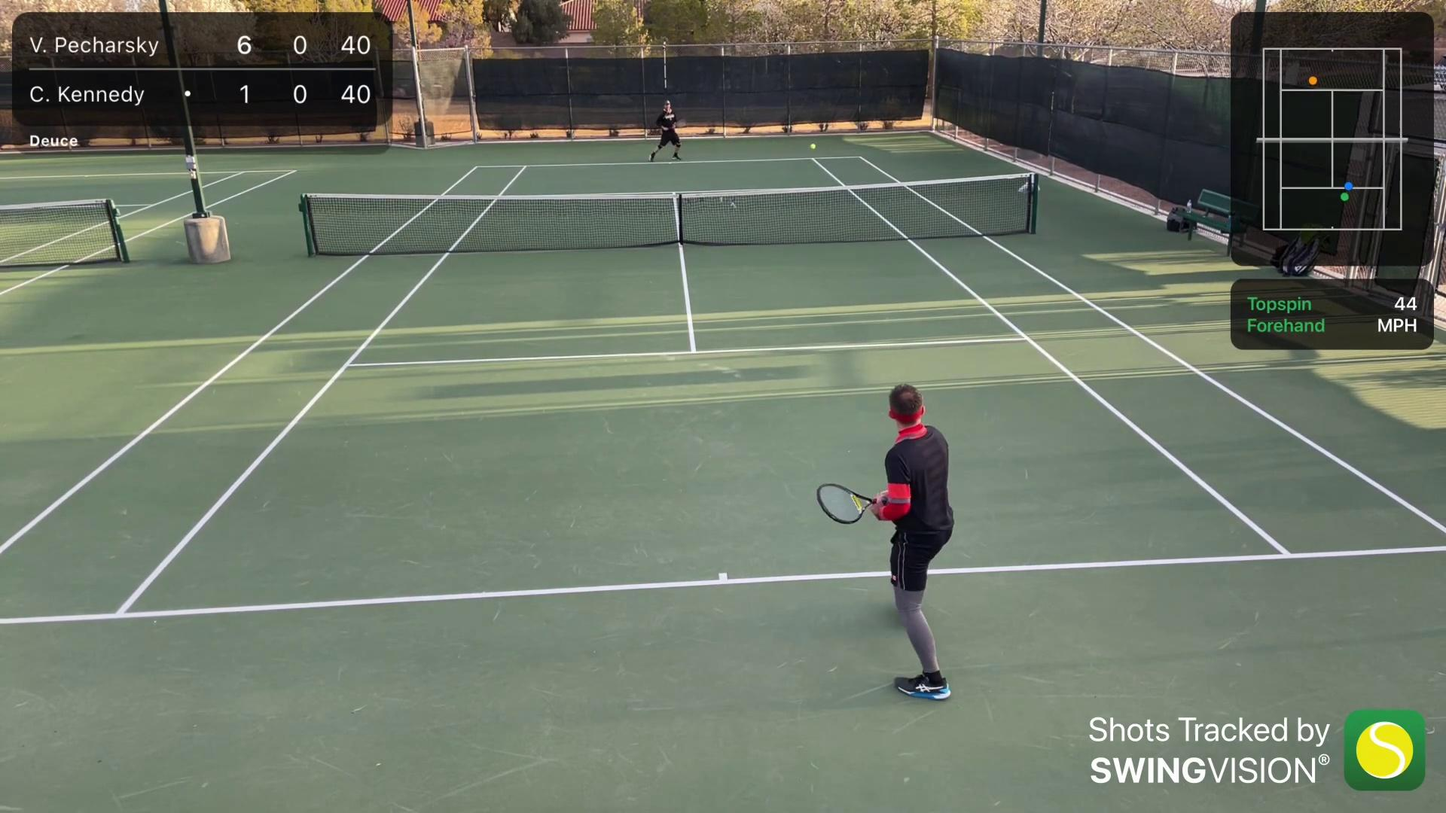ball: (809, 143, 816, 148)
